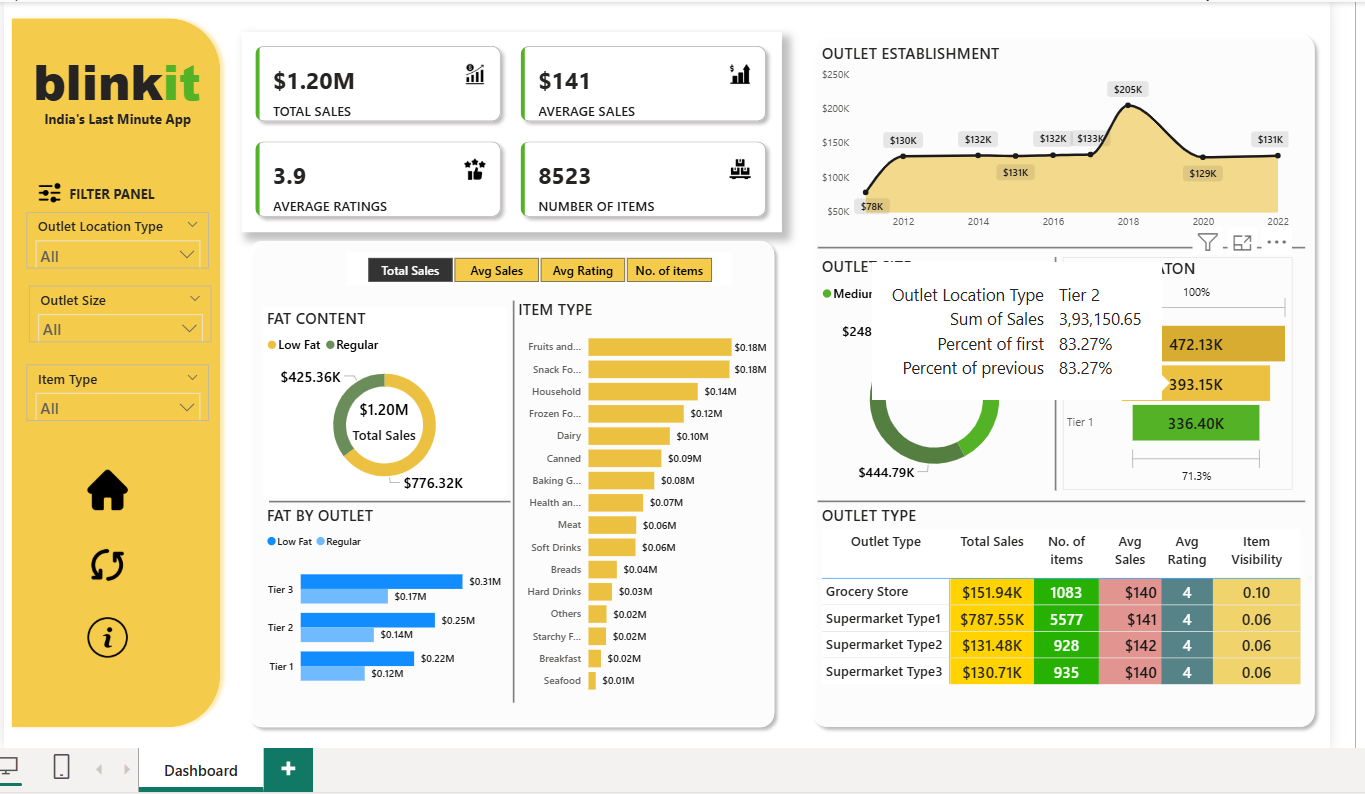

Layout of this report page (visuals, bound fields, positions):
{"tool":"powerbi","page":{"name":"Dashboard","canvas":[1600,900],"ordinal":0},"visuals":[{"type":"shape","box":[0,10,270,873.3],"z":0},{"type":"textbox","box":[30,48.6,232.9,95.7],"z":1000},{"type":"textbox","box":[44.3,125.7,205.7,37.1],"z":2000},{"type":"cardVisual","fields":{"Data":["BlinkIT Grocery Data.Total Sales","BlinkIT Grocery Data.Avg Sales","BlinkIT Grocery Data.Avg Rating","BlinkIT Grocery Data.Number of items"]},"box":[286.7,36.7,651.7,241.7],"z":3000},{"type":"shape","box":[286.7,278.3,651.7,605],"z":4000},{"type":"donutChart","title":"FAT CONTENT","fields":{"Y":["BlinkIT Grocery Data.Total Sales"],"Category":["BlinkIT Grocery Data.Item Fat Content"]},"box":[311.7,367.3,294.3,228.6],"z":5000},{"type":"slicer","fields":{"Values":["Metrics.Metrics"]},"box":[413.2,301.6,464.5,40.7],"z":6000},{"type":"card","fields":{"Values":["BlinkIT Grocery Data.Total Sales"]},"box":[406.7,456.7,103.3,95],"z":7000},{"type":"clusteredBarChart","title":"FAT BY OUTLET","fields":{"Y":["BlinkIT Grocery Data.Total Sales"],"Category":["BlinkIT Grocery Data.Outlet Location Type"],"Series":["BlinkIT Grocery Data.Item Fat Content"]},"box":[311.7,606.7,295,238.3],"z":8000},{"type":"shape","box":[320,580,291.4,44.3],"z":9000},{"type":"shape","box":[595,360,38.3,485],"z":10000},{"type":"barChart","title":"ITEM TYPE","fields":{"Y":["BlinkIT Grocery Data.Total Sales"],"Category":["BlinkIT Grocery Data.Item Type"]},"box":[615,356.7,310,488.3],"z":11000},{"type":"shape","box":[966.7,30,623.3,853.3],"z":12000},{"type":"lineChart","title":"OUTLET ESTABLISHMENT","fields":{"Category":["BlinkIT Grocery Data.Outlet Establishment Year"],"Y":["BlinkIT Grocery Data.Total Sales"]},"box":[981.7,48.3,573.3,235],"z":13000},{"type":"shape","box":[981.7,279,588.1,34.7],"z":14000},{"type":"donutChart","title":"OUTLET SIZE","fields":{"Y":["BlinkIT Grocery Data.Total Sales"],"Category":["BlinkIT Grocery Data.Outlet Size"]},"box":[981.7,306.1,282,289.5],"z":15000},{"type":"shape","box":[1248.3,308.3,40,281.7],"z":16000},{"type":"funnel","title":"OUTLET LOCATON","fields":{"Y":["Sum(BlinkIT Grocery Data.Sales)"],"Category":["BlinkIT Grocery Data.Outlet Location Type"]},"box":[1276.7,308.3,278.3,280],"z":17000},{"type":"shape","box":[981.7,585.1,588.1,34.7],"z":18000},{"type":"pivotTable","title":"OUTLET TYPE","fields":{"Rows":["BlinkIT Grocery Data.Outlet Type"],"Values":["BlinkIT Grocery Data.Total Sales","BlinkIT Grocery Data.No. of items","BlinkIT Grocery Data.Avg Sales","BlinkIT Grocery Data.Avg Rating","Sum(BlinkIT Grocery Data.Item Visibility)"]},"box":[981.7,606.7,588.3,238.3],"z":19000},{"type":"slicer","fields":{"Values":["BlinkIT Grocery Data.Outlet Location Type"]},"box":[26.7,253.3,220,68.3],"z":20000},{"type":"slicer","fields":{"Values":["BlinkIT Grocery Data.Outlet Size"]},"box":[30,341.7,220,68.3],"z":21000},{"type":"slicer","fields":{"Values":["BlinkIT Grocery Data.Item Type"]},"box":[26.7,436.7,220,68.3],"z":22000},{"type":"textbox","box":[74.2,215.7,123.7,37.7],"z":23000},{"type":"image","box":[95,559.5,60.3,58.8],"z":24000},{"type":"image","box":[36.5,206.6,37.7,46.7],"z":25000},{"type":"image","box":[95,650,60.3,58.8],"z":26000},{"type":"image","box":[95,737.4,60.3,58.8],"z":28000}]}

Visuals, with their boxes on the page's 1600x900 design canvas (x1, y1, x2, y2). These are canvas units, not pixel positions in the 1365x794 screenshot, which may show the page scaled, cropped or inside an application window:
shape: (x1=0, y1=10, x2=270, y2=883)
textbox: (x1=30, y1=49, x2=263, y2=144)
textbox: (x1=44, y1=126, x2=250, y2=163)
cardVisual - BlinkIT Grocery Data.Total Sales x BlinkIT Grocery Data.Avg Sales: (x1=287, y1=37, x2=938, y2=278)
shape: (x1=287, y1=278, x2=938, y2=883)
"FAT CONTENT" donutChart: (x1=312, y1=367, x2=606, y2=596)
slicer - Metrics.Metrics: (x1=413, y1=302, x2=878, y2=342)
card - BlinkIT Grocery Data.Total Sales: (x1=407, y1=457, x2=510, y2=552)
"FAT BY OUTLET" clusteredBarChart: (x1=312, y1=607, x2=607, y2=845)
shape: (x1=320, y1=580, x2=611, y2=624)
shape: (x1=595, y1=360, x2=633, y2=845)
"ITEM TYPE" barChart: (x1=615, y1=357, x2=925, y2=845)
shape: (x1=967, y1=30, x2=1590, y2=883)
"OUTLET ESTABLISHMENT" lineChart: (x1=982, y1=48, x2=1555, y2=283)
shape: (x1=982, y1=279, x2=1570, y2=314)
"OUTLET SIZE" donutChart: (x1=982, y1=306, x2=1264, y2=596)
shape: (x1=1248, y1=308, x2=1288, y2=590)
"OUTLET LOCATON" funnel: (x1=1277, y1=308, x2=1555, y2=588)
shape: (x1=982, y1=585, x2=1570, y2=620)
"OUTLET TYPE" pivotTable: (x1=982, y1=607, x2=1570, y2=845)
slicer - BlinkIT Grocery Data.Outlet Location Type: (x1=27, y1=253, x2=247, y2=322)
slicer - BlinkIT Grocery Data.Outlet Size: (x1=30, y1=342, x2=250, y2=410)
slicer - BlinkIT Grocery Data.Item Type: (x1=27, y1=437, x2=247, y2=505)
textbox: (x1=74, y1=216, x2=198, y2=253)
image: (x1=95, y1=560, x2=155, y2=618)
image: (x1=36, y1=207, x2=74, y2=253)
image: (x1=95, y1=650, x2=155, y2=709)
image: (x1=95, y1=737, x2=155, y2=796)
